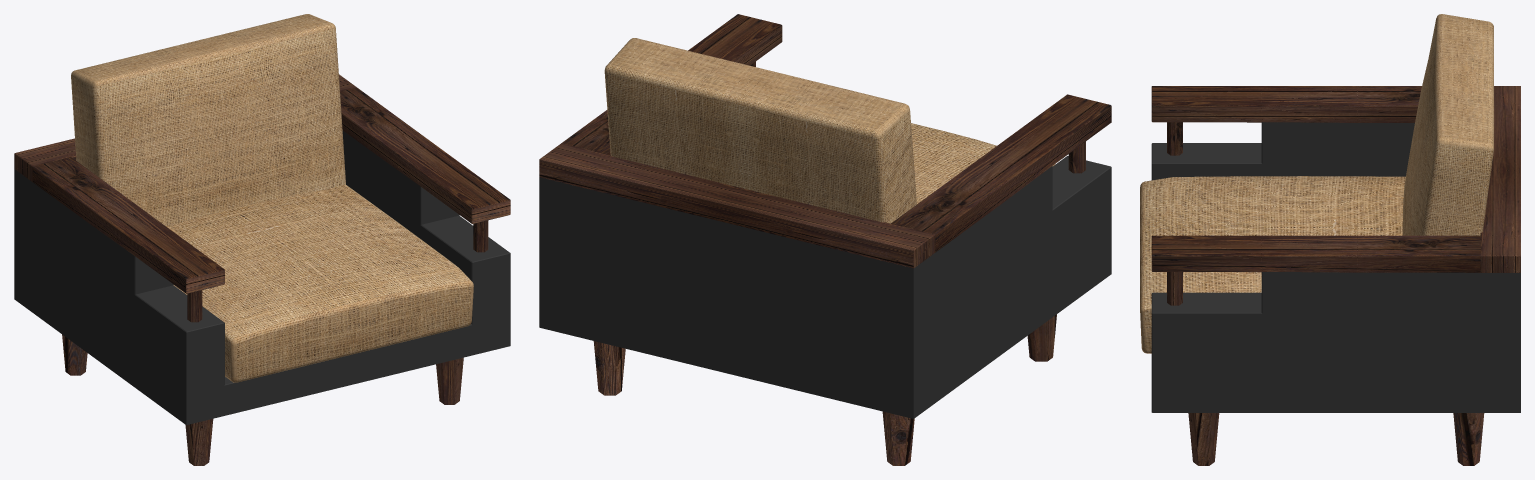
The model's file is Coq_funiture_Sofa_single01.fbx.
The picture shows the model from 3 angles, left to right: view 1: azimuth 30°, elevation 25°; view 2: azimuth 150°, elevation 25°; view 3: azimuth 270°, elevation 25°; orthographic projection. The views are drawn at different scales.
Visible parts, largest first — view 1: cussion, base; view 2: base, cussion; view 3: base, cussion.
Part boxes in pixels (box(x1,y1,x2,y2)): cussion: box(71, 14, 473, 382); base: box(14, 74, 510, 465); base: box(539, 14, 1111, 465); cussion: box(604, 38, 1055, 223); base: box(1151, 86, 1520, 465); cussion: box(1140, 14, 1493, 353).
Bounding box in the file's own units: 453 × 398 × 429.
